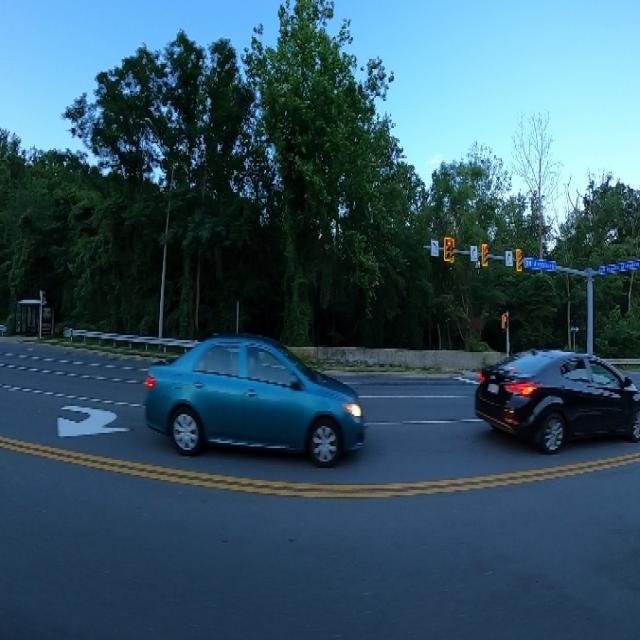cars: (139, 319, 365, 488), (471, 330, 640, 475)
